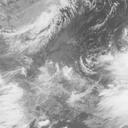cyclone: (29, 48, 93, 100)
